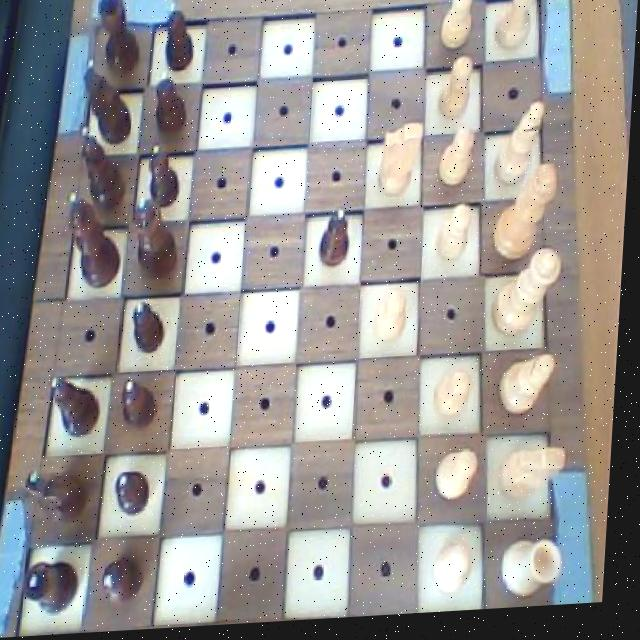bishop: (72, 124, 135, 219), (47, 373, 109, 444)
black-bishop: (58, 187, 126, 299)
black-king: (76, 57, 137, 151), (26, 459, 94, 537)
black-knight: (104, 550, 156, 613), (158, 0, 200, 76), (150, 73, 192, 142), (146, 141, 185, 215), (123, 374, 167, 437), (319, 207, 357, 276), (119, 464, 163, 522), (133, 296, 172, 357)
black-pawn: (128, 192, 186, 291)
black-queen: (93, 0, 146, 84), (26, 555, 91, 618)
black-rook: (491, 105, 549, 198), (497, 355, 564, 429)
white-bishop: (491, 161, 565, 272)
white-king: (502, 440, 576, 516), (375, 121, 429, 208)
white-knight: (435, 447, 490, 514), (438, 54, 480, 128), (434, 203, 479, 272), (435, 541, 484, 603), (372, 289, 418, 353), (434, 372, 481, 430), (438, 131, 480, 194), (437, 0, 478, 60)
white-pawn: (494, 250, 569, 350)
white-queen: (505, 538, 577, 606), (488, 0, 554, 62)
